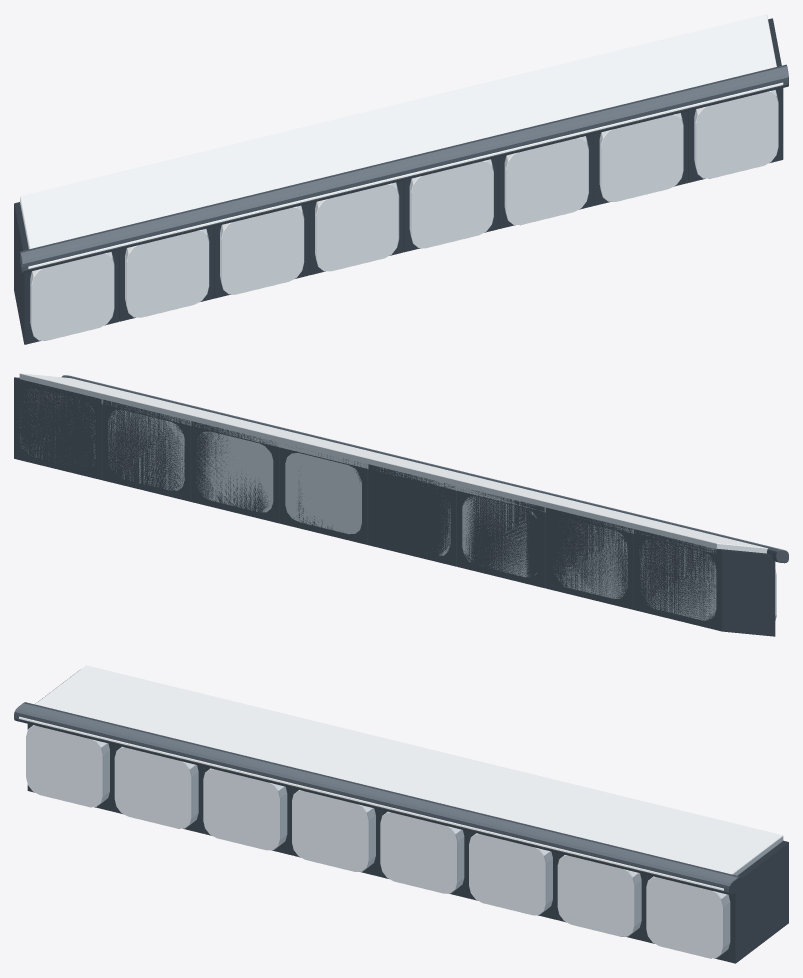
Rendered from Terrain_TopRun8LR.gltf.
The picture shows the model from 3 angles, top to bottom: view 1: azimuth 30°, elevation 25°; view 2: azimuth 150°, elevation 25°; view 3: azimuth 330°, elevation 25°; orthographic projection. The views are drawn at different scales.
Visible parts, largest first — view 1: Terrain_TopRun8LR_baked; view 2: Terrain_TopRun8LR_baked; view 3: Terrain_TopRun8LR_baked.
Part boxes in pixels (x1=…): Terrain_TopRun8LR_baked: x1=14, y1=14, x2=788, y2=344; Terrain_TopRun8LR_baked: x1=14, y1=373, x2=788, y2=636; Terrain_TopRun8LR_baked: x1=14, y1=665, x2=788, y2=963.
Bounding box in the file's own units: 8.33 × 1.18 × 0.74.
